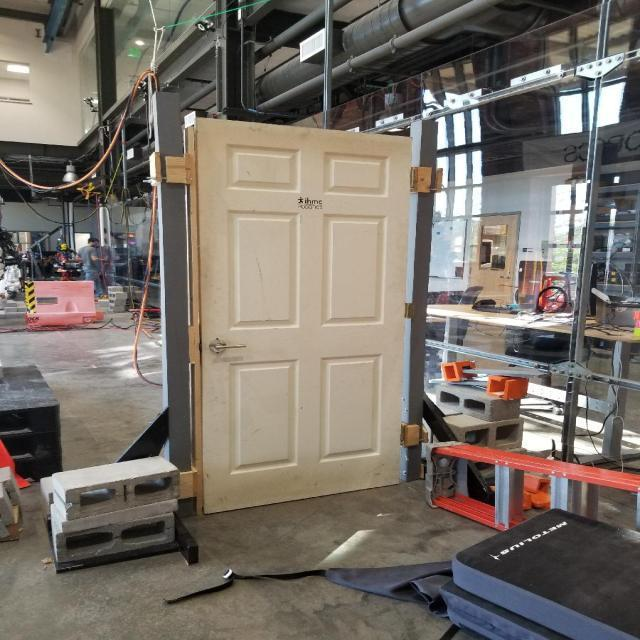door: (186, 106, 410, 519), (205, 338, 251, 356)
